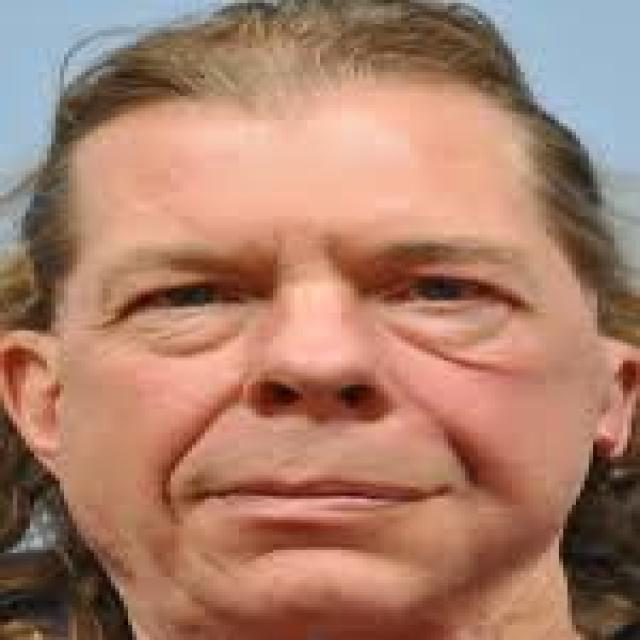stroke_face: (19, 69, 622, 616)
